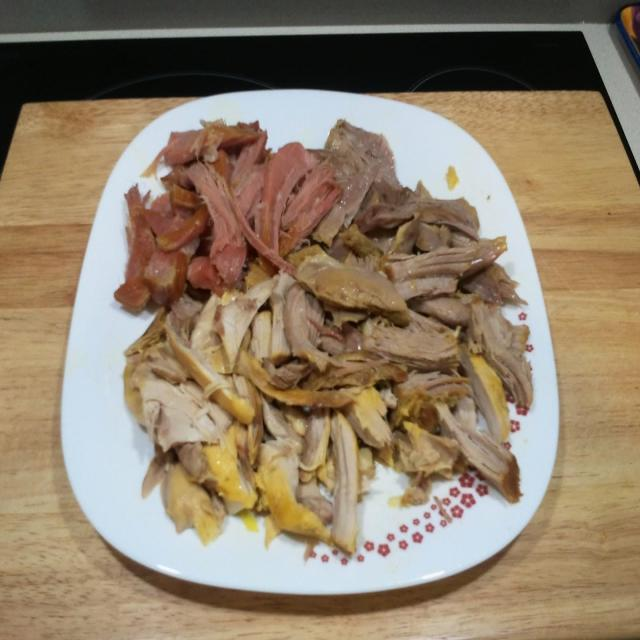carne de res: (112, 106, 547, 554)
